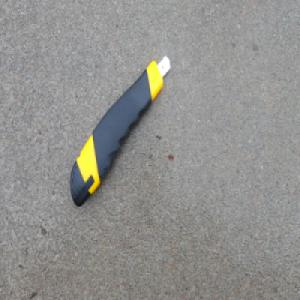Cutter: (69, 52, 171, 208)
